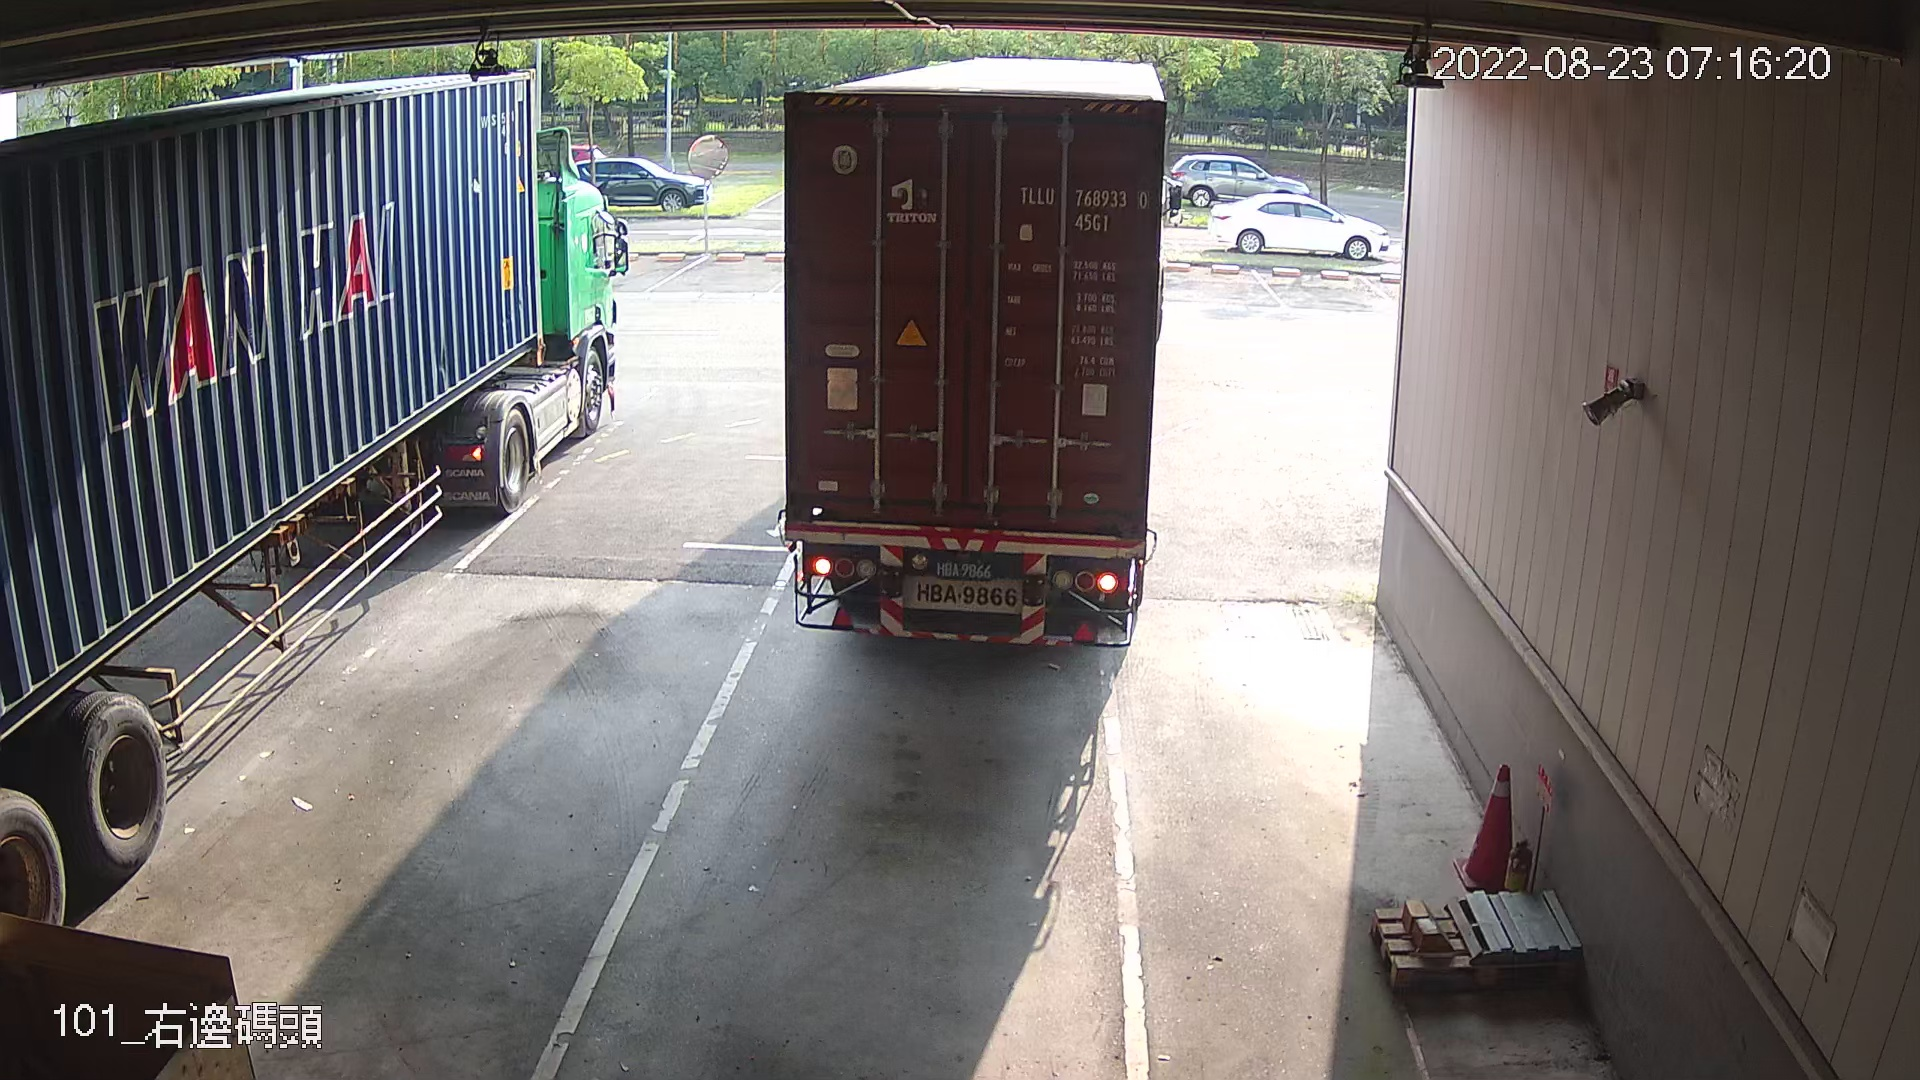container: (1010, 171, 1154, 236)
